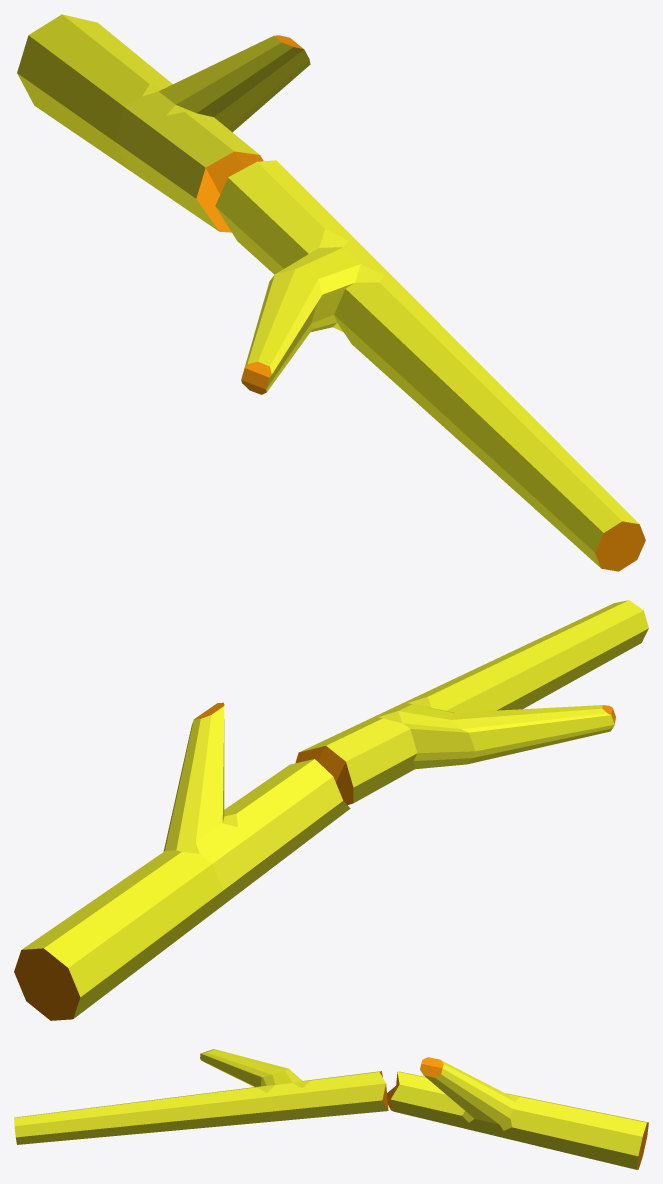
File: Stick_32.fbx
3 views of the same model, one above another, from view 1: azimuth 30°, elevation 25°; view 2: azimuth 150°, elevation 25°; view 3: azimuth 270°, elevation 25° (orthographic). The views are drawn at different scales.
Parts seen in each view (by area): view 1: Circle.329, Circle.327; view 2: Circle.327, Circle.329; view 3: Circle.329, Circle.327.
Part boxes in pixels (x1=…): Circle.329: x1=215, y1=160, x2=645, y2=571; Circle.327: x1=17, y1=14, x2=310, y2=232; Circle.327: x1=14, y1=702, x2=350, y2=1020; Circle.329: x1=295, y1=600, x2=648, y2=805; Circle.329: x1=14, y1=1049, x2=388, y2=1144; Circle.327: x1=387, y1=1057, x2=648, y2=1169.
Size of the model in its own units: 11.25 by 8.1 by 41.39.
